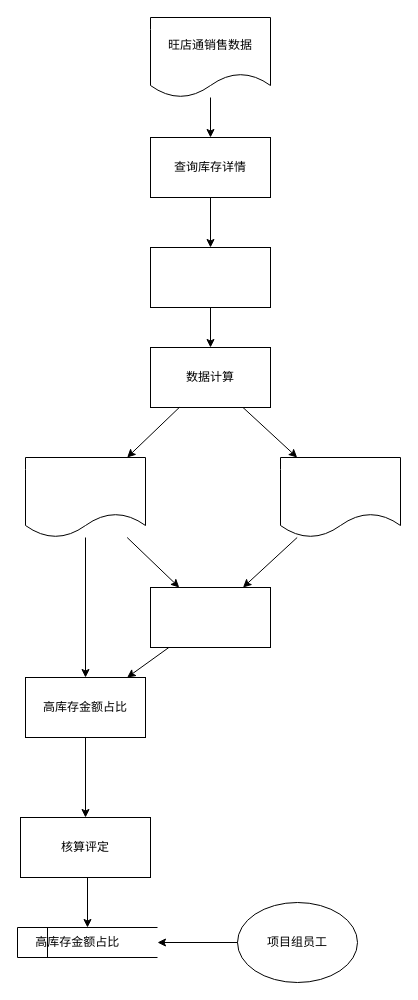
Some shapes in this 418 by 1000 pixel diagram are drawn without their labels. The centre of each missing label's shape, as x and y in pixels:
90天出货库存金额: point (340, 497)
可发库存金额: point (85, 497)
选择部分字段数据: point (210, 277)
高库存金额: point (210, 617)
